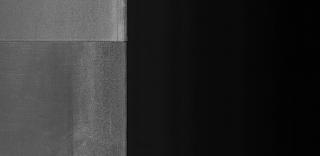welding line: (0, 33, 140, 49)
